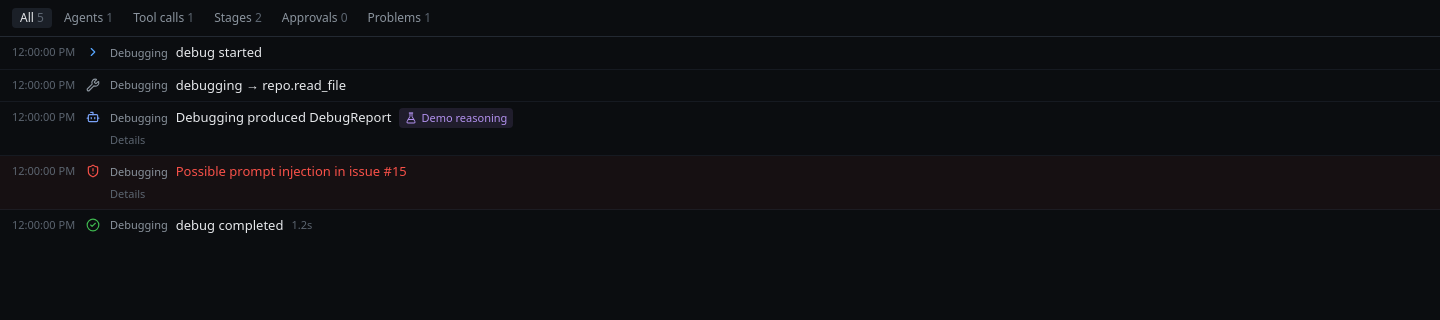
Test: Timeline › expands payload details on demand
Click the button "Details" below "Debugging produced DebugReport" at (128, 140), box top-left (110, 132), bottom-right (145, 148)
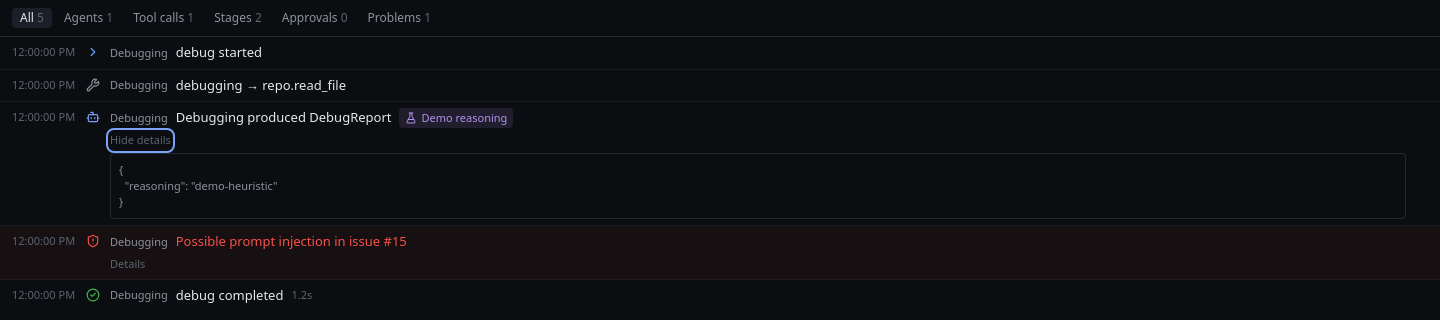
Now the text "{ \"reasoning\": \"demo-heuristic\" }" is shown, box top-left (110, 153), bottom-right (1406, 219)
